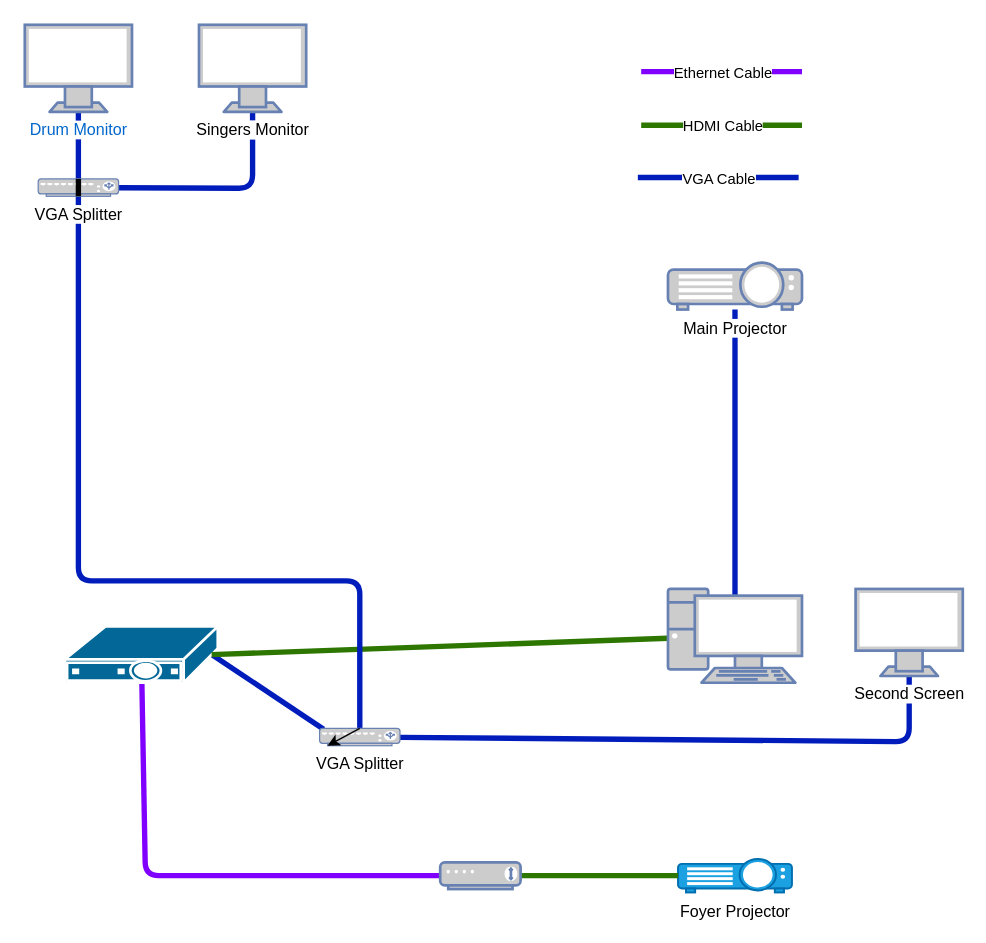
This 986x943 diagram has some shape labels left out. The shapes that lost their labels are listed below. From the top down, each one's centre as x and y in pixels, then its label:
At point (140, 653): "HDBaseT Splitter".
At point (734, 635): "Projection Computer".
At point (479, 875): "HDBaseT Box".
